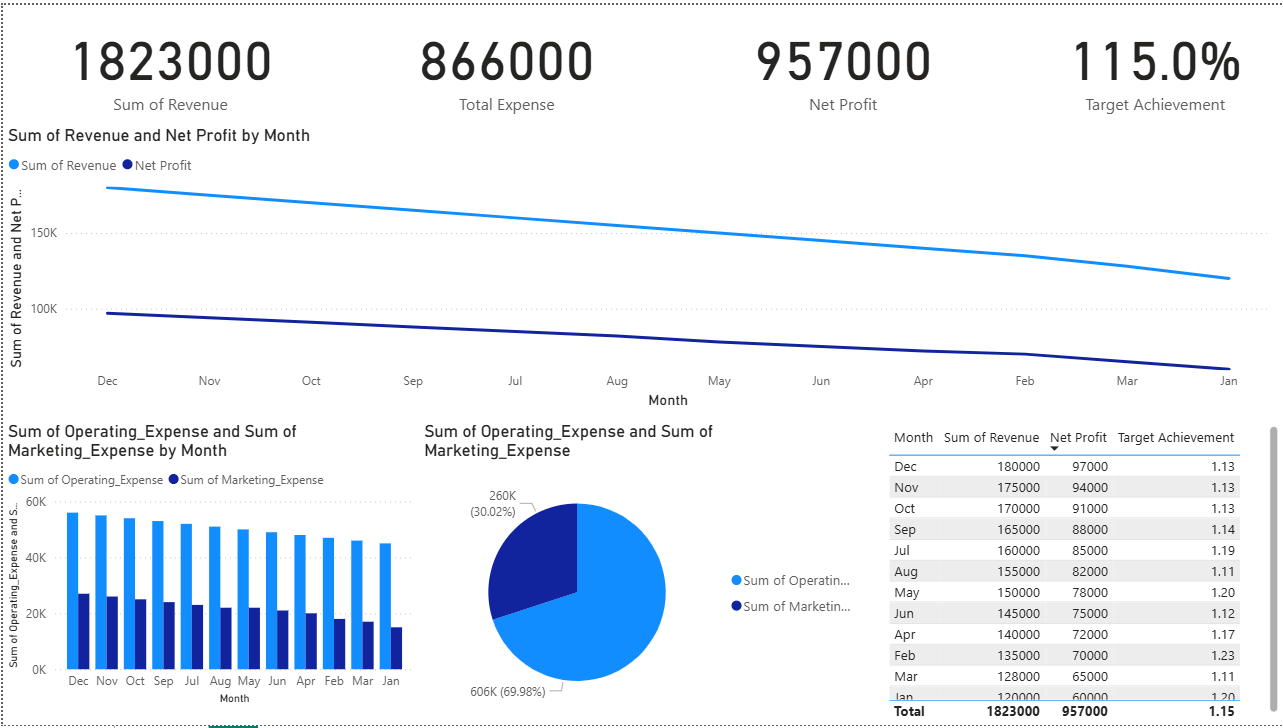

What the dashboard file says about the page in this screenshot:
{"tool":"powerbi","page":{"name":"Page 1","canvas":[1280,720],"ordinal":0},"visuals":[{"type":"card","fields":{"Values":["Sum(financial_data.Revenue)"]},"box":[24,0,288,120],"z":0},{"type":"card","fields":{"Values":["financial_data.Total Expense"]},"box":[360,0,288,120],"z":1000},{"type":"card","fields":{"Values":["financial_data.Net Profit"]},"box":[696,0,288,120],"z":2000},{"type":"card","fields":{"Values":["financial_data.Target Achievement"]},"box":[1032,0,240,120],"z":3000},{"type":"lineChart","fields":{"Category":["financial_data.Month"],"Y":["Sum(financial_data.Revenue)","financial_data.Net Profit"]},"box":[0,120,1272,288],"z":4000},{"type":"clusteredColumnChart","fields":{"Category":["financial_data.Month"],"Y":["Sum(financial_data.Operating_Expense)","Sum(financial_data.Marketing_Expense)"]},"box":[0,416,416,288],"z":5000},{"type":"pieChart","fields":{"Y":["Sum(financial_data.Operating_Expense)","Sum(financial_data.Marketing_Expense)"]},"box":[416,416,448,304],"z":6000},{"type":"tableEx","fields":{"Values":["financial_data.Month","Sum(financial_data.Revenue)","financial_data.Net Profit","financial_data.Target Achievement"]},"box":[880,416,400,304],"z":7000}]}

Visuals, with their boxes in screenshot pixels (x1, y1, x2, y2), scaled from the page's 1280x720 canvas onto the 1283x728 screenshot:
card - Sum(financial_data.Revenue): box(24, 0, 313, 121)
card - financial_data.Total Expense: box(361, 0, 650, 121)
card - financial_data.Net Profit: box(698, 0, 986, 121)
card - financial_data.Target Achievement: box(1034, 0, 1275, 121)
lineChart - financial_data.Month x Sum(financial_data.Revenue): box(0, 121, 1275, 413)
clusteredColumnChart - financial_data.Month x Sum(financial_data.Operating_Expense): box(0, 421, 417, 712)
pieChart - Sum(financial_data.Operating_Expense) x Sum(financial_data.Marketing_Expense): box(417, 421, 866, 727)
tableEx - financial_data.Month x Sum(financial_data.Revenue): box(882, 421, 1282, 727)
